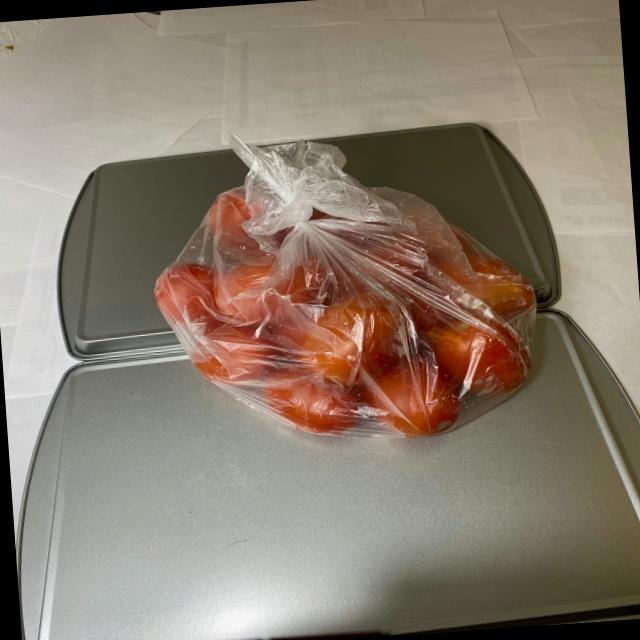tomato: (151, 172, 544, 464)
